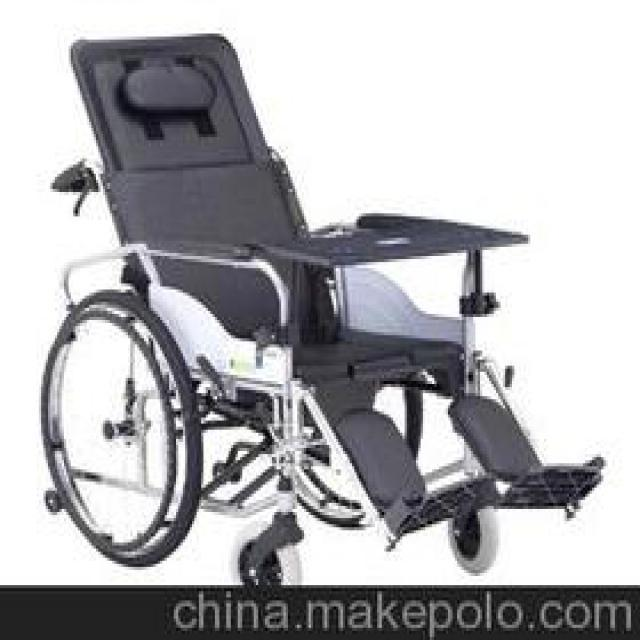wheelchair: (16, 15, 617, 585)
